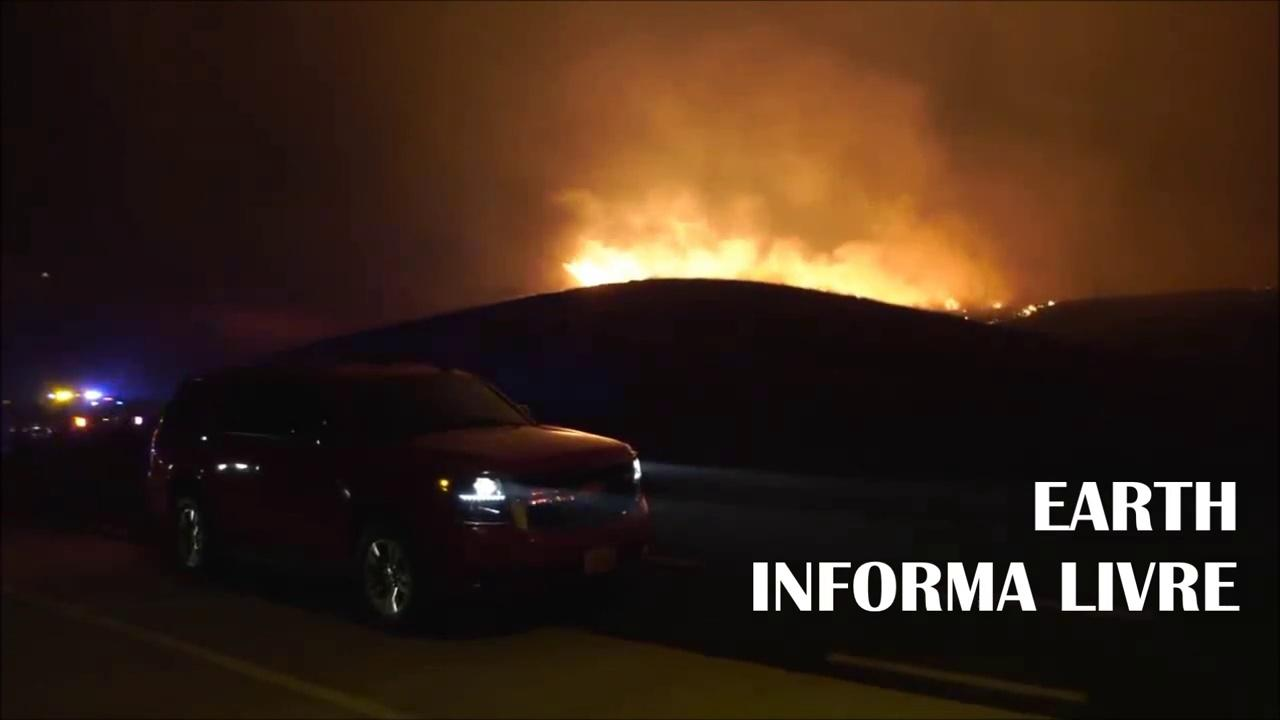Fire: (558, 238, 972, 325), (1019, 300, 1059, 319), (991, 303, 1007, 309)
